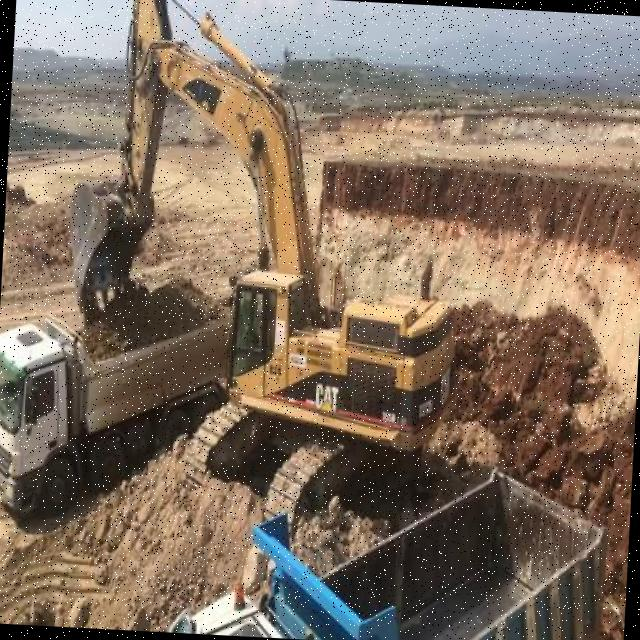Dump Truck: (163, 442, 615, 640), (0, 295, 252, 528)
Excavator: (49, 0, 473, 535)
